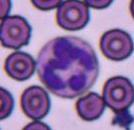N: (38, 35, 98, 98)
